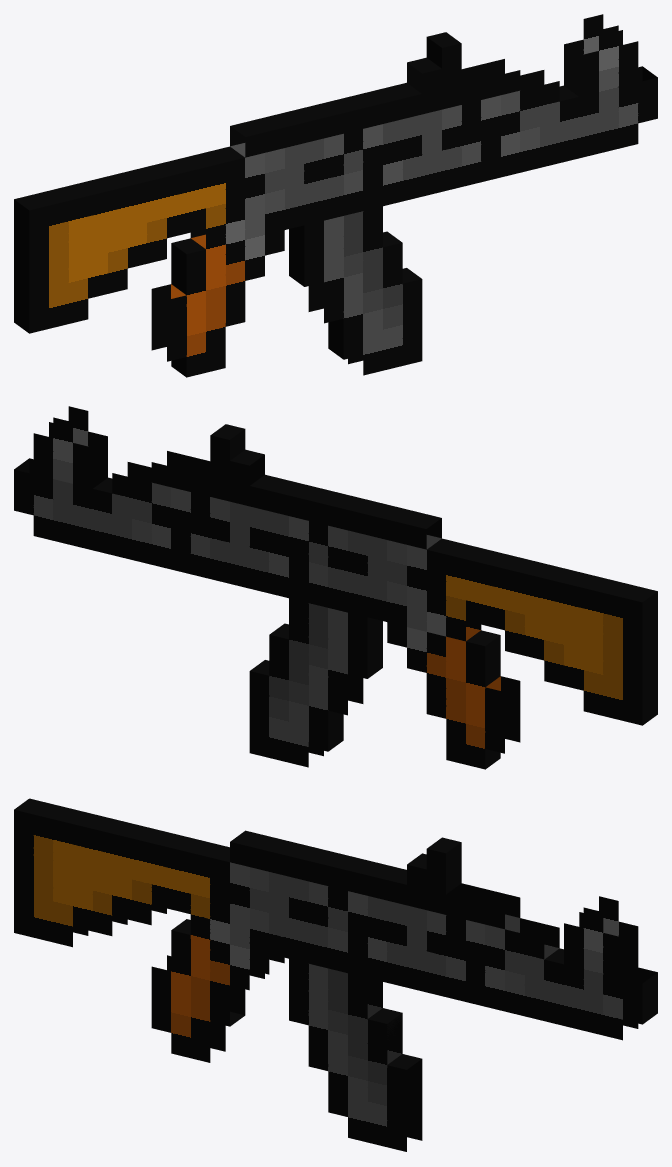
3 renders of one model, top to bottom at view 1: azimuth 30°, elevation 25°; view 2: azimuth 150°, elevation 25°; view 3: azimuth 330°, elevation 25°, orthographic.
Parts seen in each view (by area): view 1: Ak 47; view 2: Ak 47; view 3: Ak 47.
Boxes of the visible parts, x1,y1,x2,y2 form: Ak 47: (14,14,657,377); Ak 47: (14,406,657,769); Ak 47: (14,798,657,1151).
Bounding box in the file's own units: 188 × 88.31 × 7.96.
